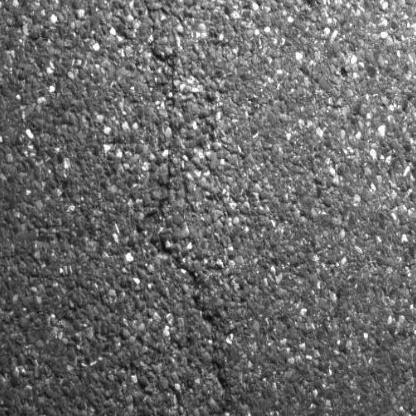Cracks: (130, 0, 235, 408)
